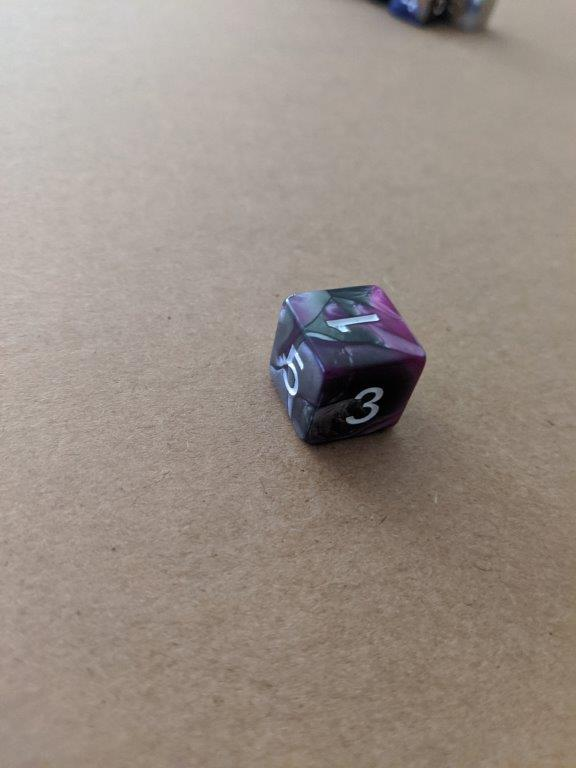d6-1: (270, 285, 427, 446)
